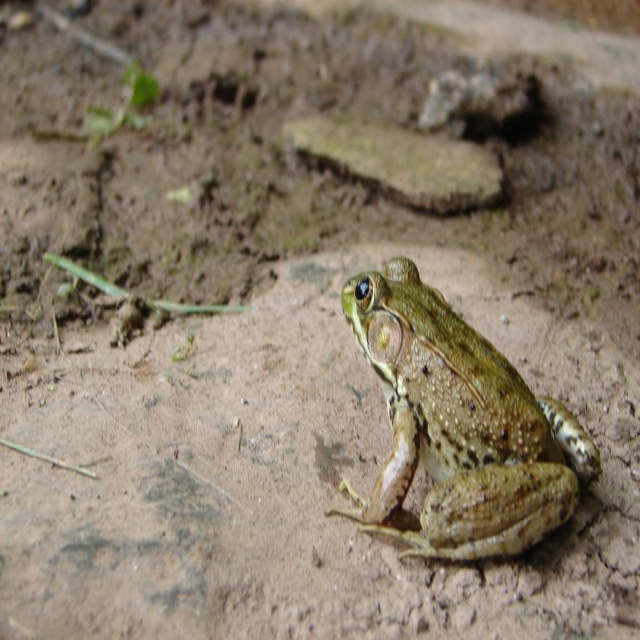Frog: (322, 254, 601, 565)
